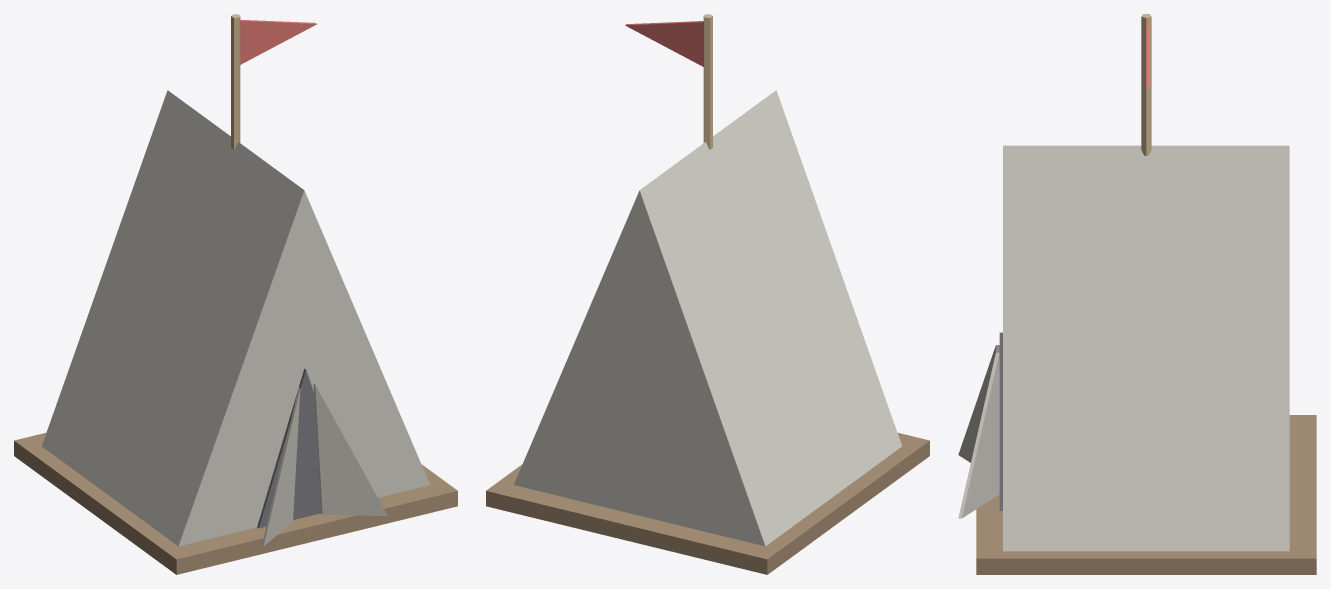
Rendered from guard_tent.glb.
The picture shows the model from 3 angles, left to right: view 1: azimuth 30°, elevation 25°; view 2: azimuth 150°, elevation 25°; view 3: azimuth 270°, elevation 25°; orthographic projection. The views are drawn at different scales.
Visible parts, largest first — view 1: Guard_Tent; view 2: Guard_Tent; view 3: Guard_Tent.
Part boxes in pixels (left/top/right/bottom): Guard_Tent: left=14, top=14, right=457, bottom=574; Guard_Tent: left=486, top=14, right=929, bottom=574; Guard_Tent: left=958, top=14, right=1316, bottom=574.
Bounding box in the file's own units: 1.9 × 3 × 2.
